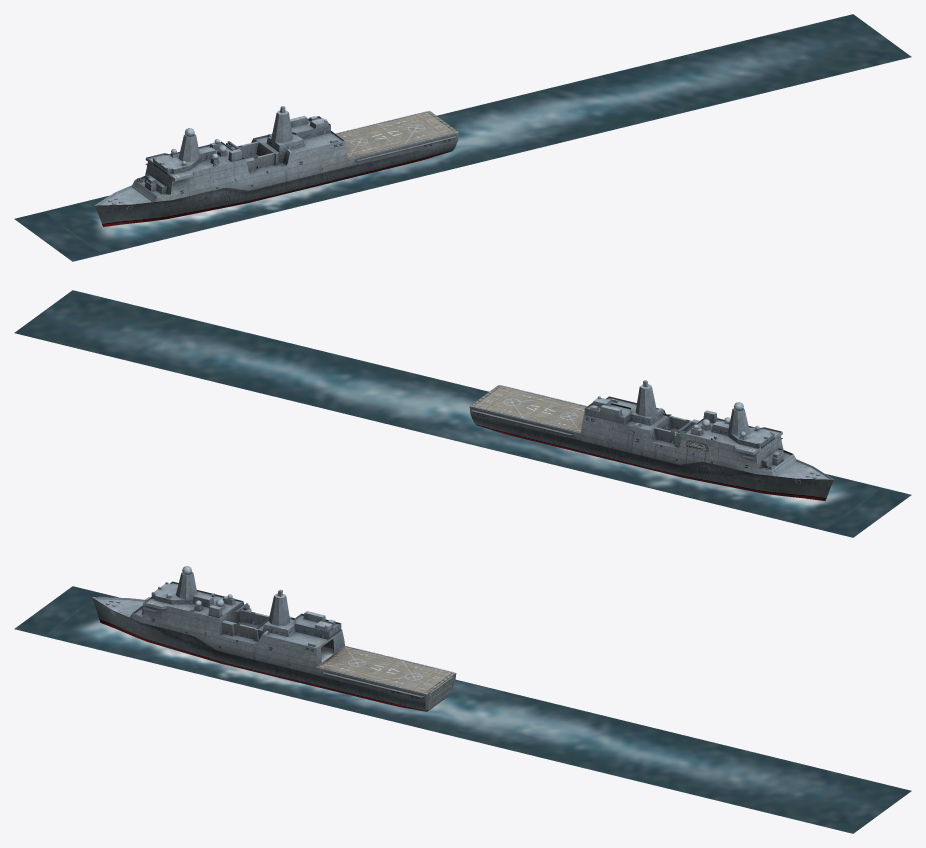
The model's file is lpd17.glb.
The picture shows the model from 3 angles, top to bottom: view 1: azimuth 30°, elevation 25°; view 2: azimuth 150°, elevation 25°; view 3: azimuth 330°, elevation 25°; orthographic projection.
Parts seen in each view (by area): view 1: rect, ShapeIndexedFaceS.005; view 2: rect, ShapeIndexedFaceS.005; view 3: rect, ShapeIndexedFaceS.005.
Boxes of the visible parts, x1,y1,x2,y2 form: rect: [14, 14, 911, 261]; ShapeIndexedFaceS.005: [94, 110, 458, 226]; rect: [14, 290, 911, 537]; ShapeIndexedFaceS.005: [469, 384, 833, 500]; rect: [14, 586, 911, 833]; ShapeIndexedFaceS.005: [92, 572, 456, 711].
Size of the model in its own units: 498 by 50.16 by 60.39.
3 materials, 3 textured.
